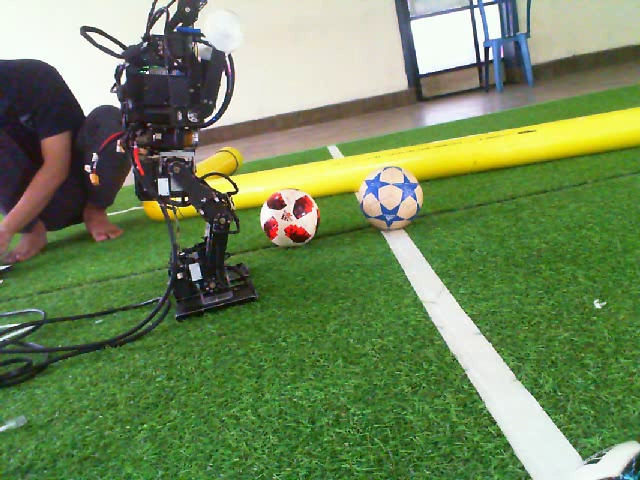ball: (358, 164, 425, 232), (258, 186, 323, 250), (558, 436, 640, 480)
